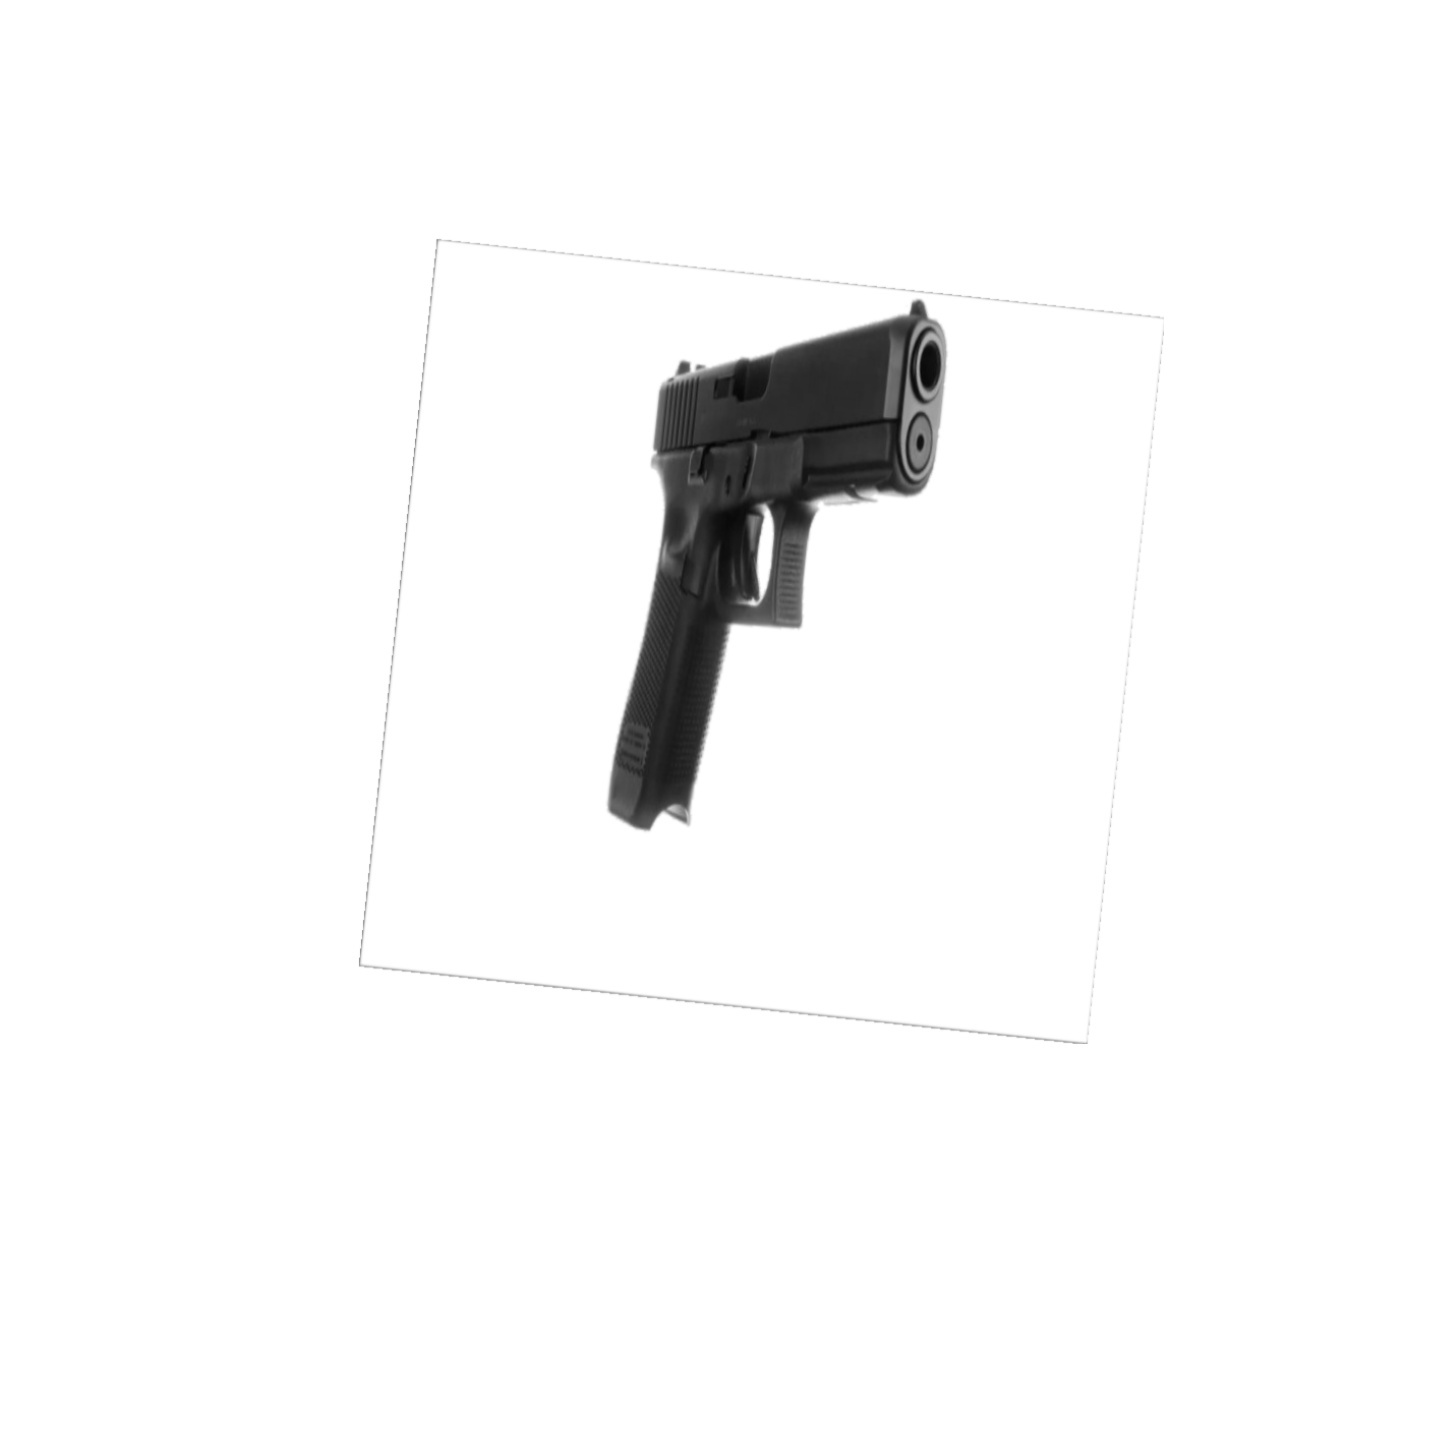gun: (604, 295, 953, 832)
